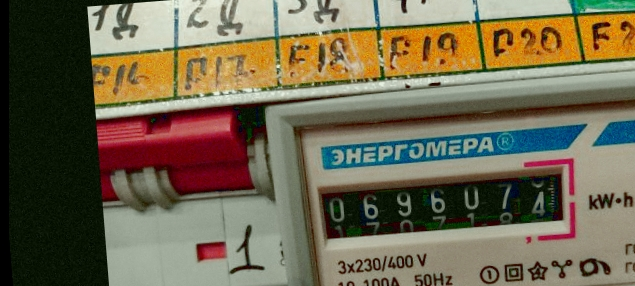0: (326, 194, 349, 223), (462, 180, 482, 211), (362, 191, 381, 218)
4: (529, 188, 548, 217)
6: (427, 183, 448, 214)
7: (495, 179, 515, 209)
9: (395, 187, 415, 217)
screen: (303, 153, 583, 258)
